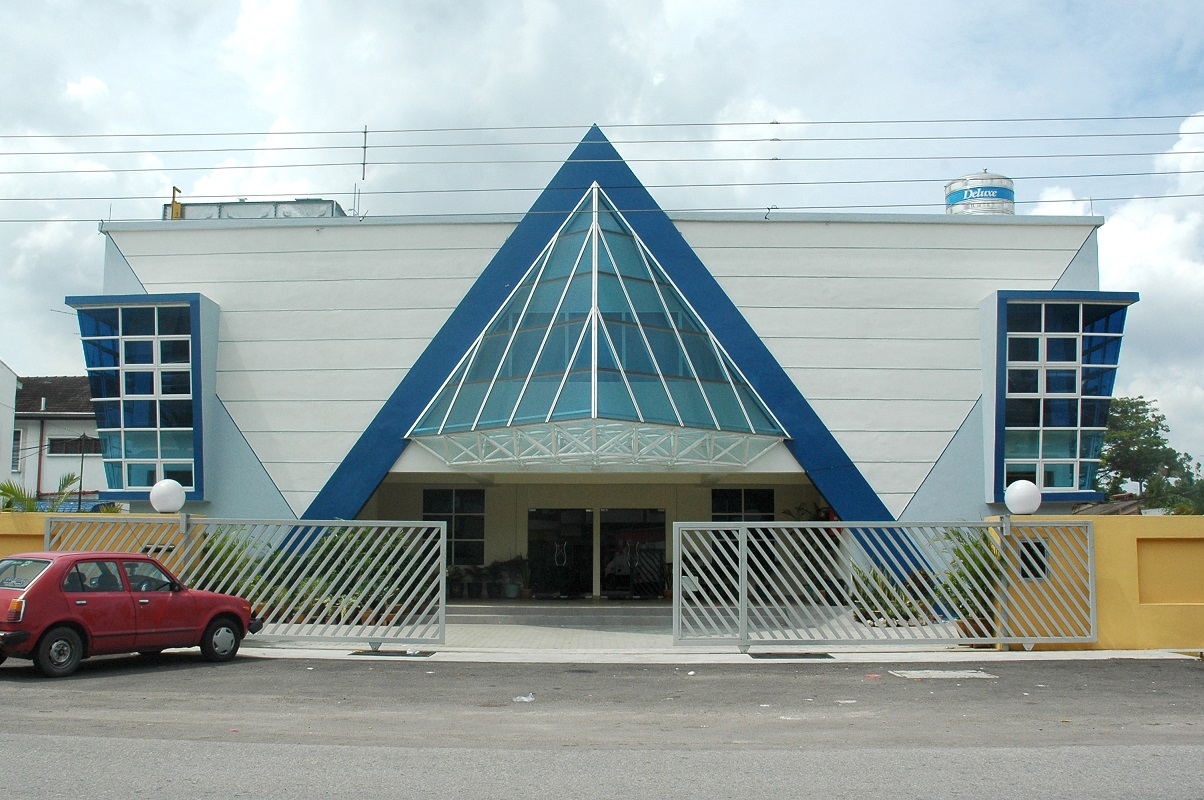Church: (84, 142, 1120, 600)
